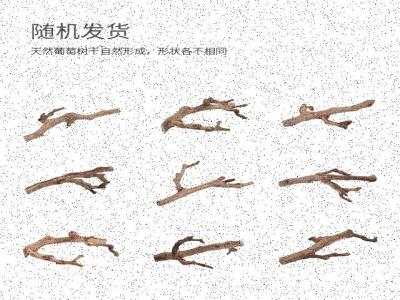Root: (157, 161, 252, 205), (279, 168, 376, 202), (279, 230, 376, 264), (23, 232, 118, 266), (24, 108, 119, 141), (154, 236, 242, 269), (161, 98, 246, 132), (283, 100, 373, 129), (26, 166, 113, 194)
